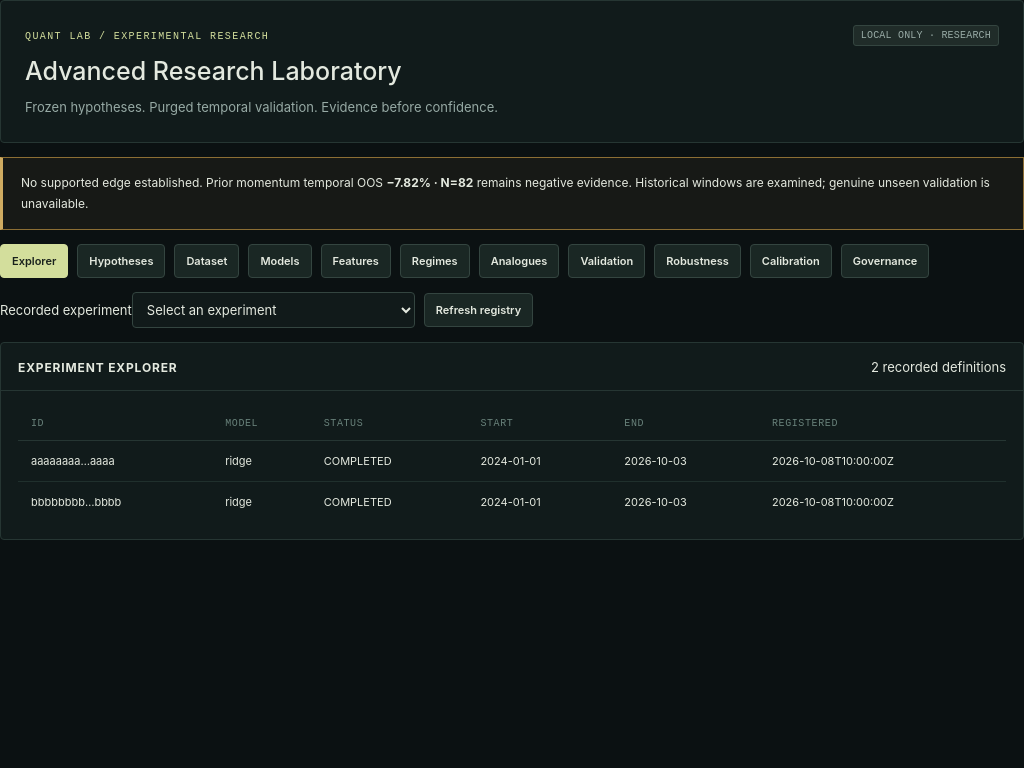
Test: Advanced experimental Quant Lab › loads actual dataset and labels with missingness
Select "ridge · COMPLETED · aaaaaaaa…aaaa" in the dropdown labelled "Recorded experiment". click: {"x": 273, "y": 310}
box: [132,292,415,328]
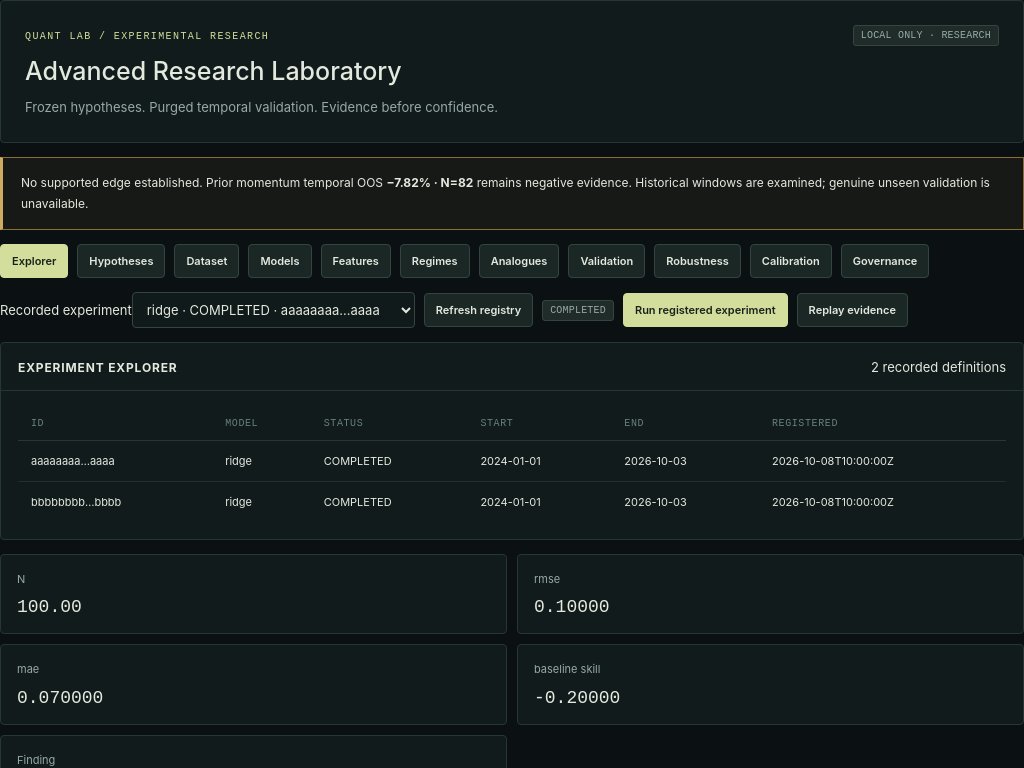
Click the tab "Dataset". click: {"x": 207, "y": 261}
box: [174,244,239,278]
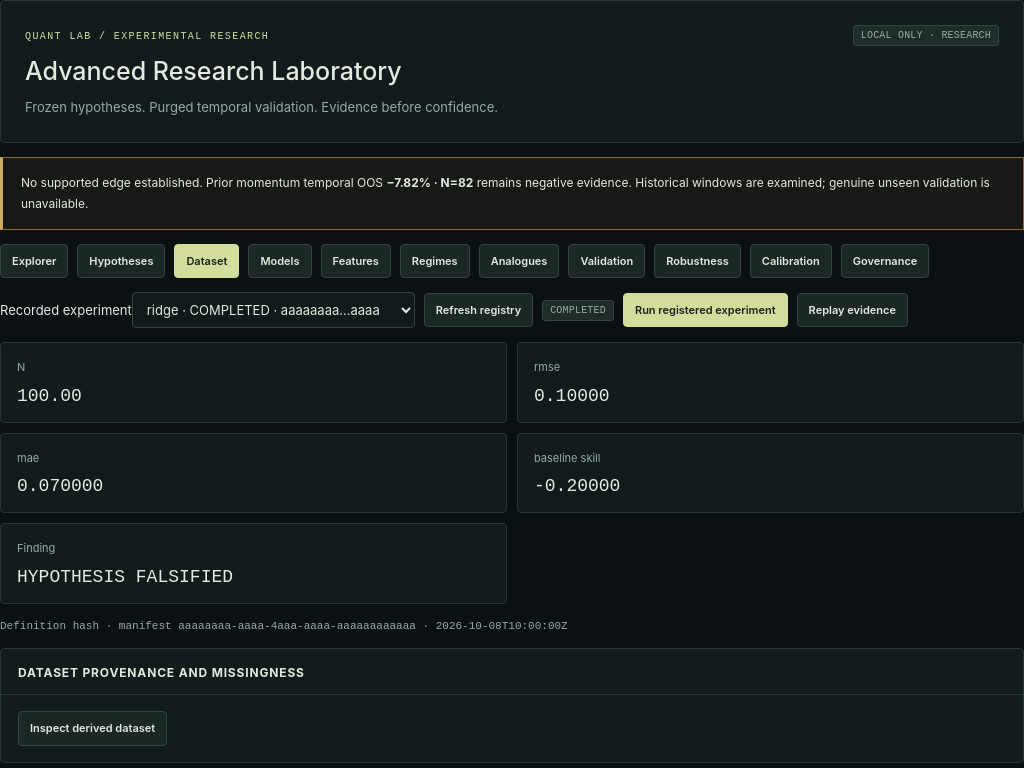
Click the button "Inspect derived dataset". click: {"x": 93, "y": 728}
box: [18,711,167,746]
(page scrolled)
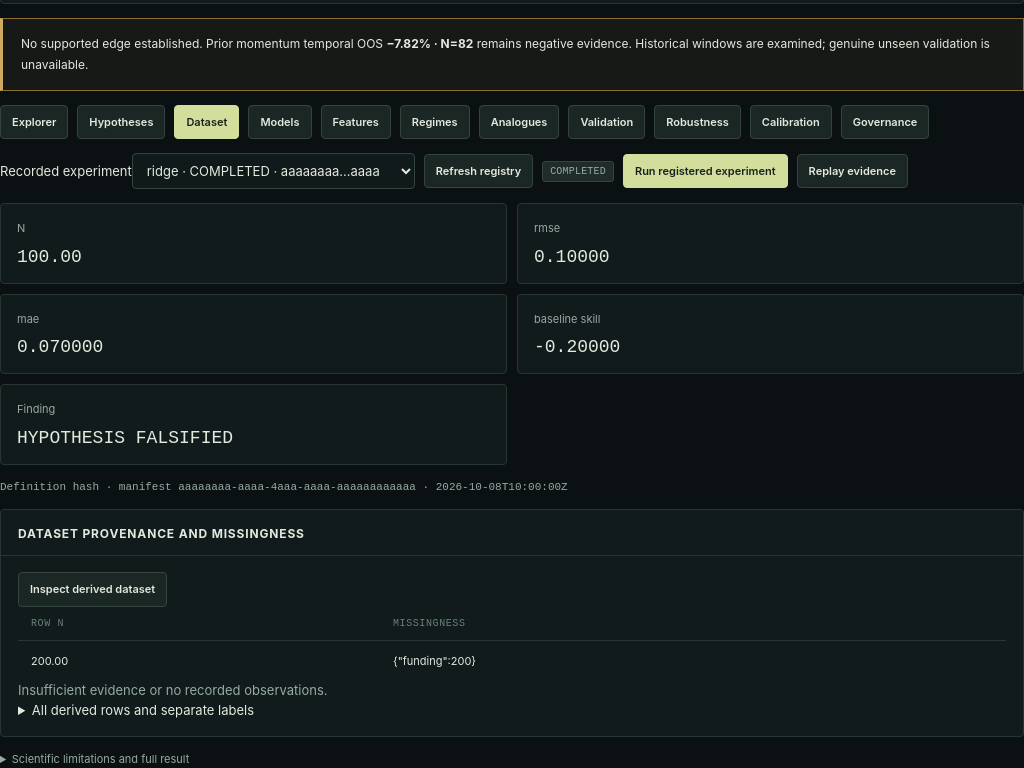
Result: the column heading "row N" is shown at [18,607,380,640]
